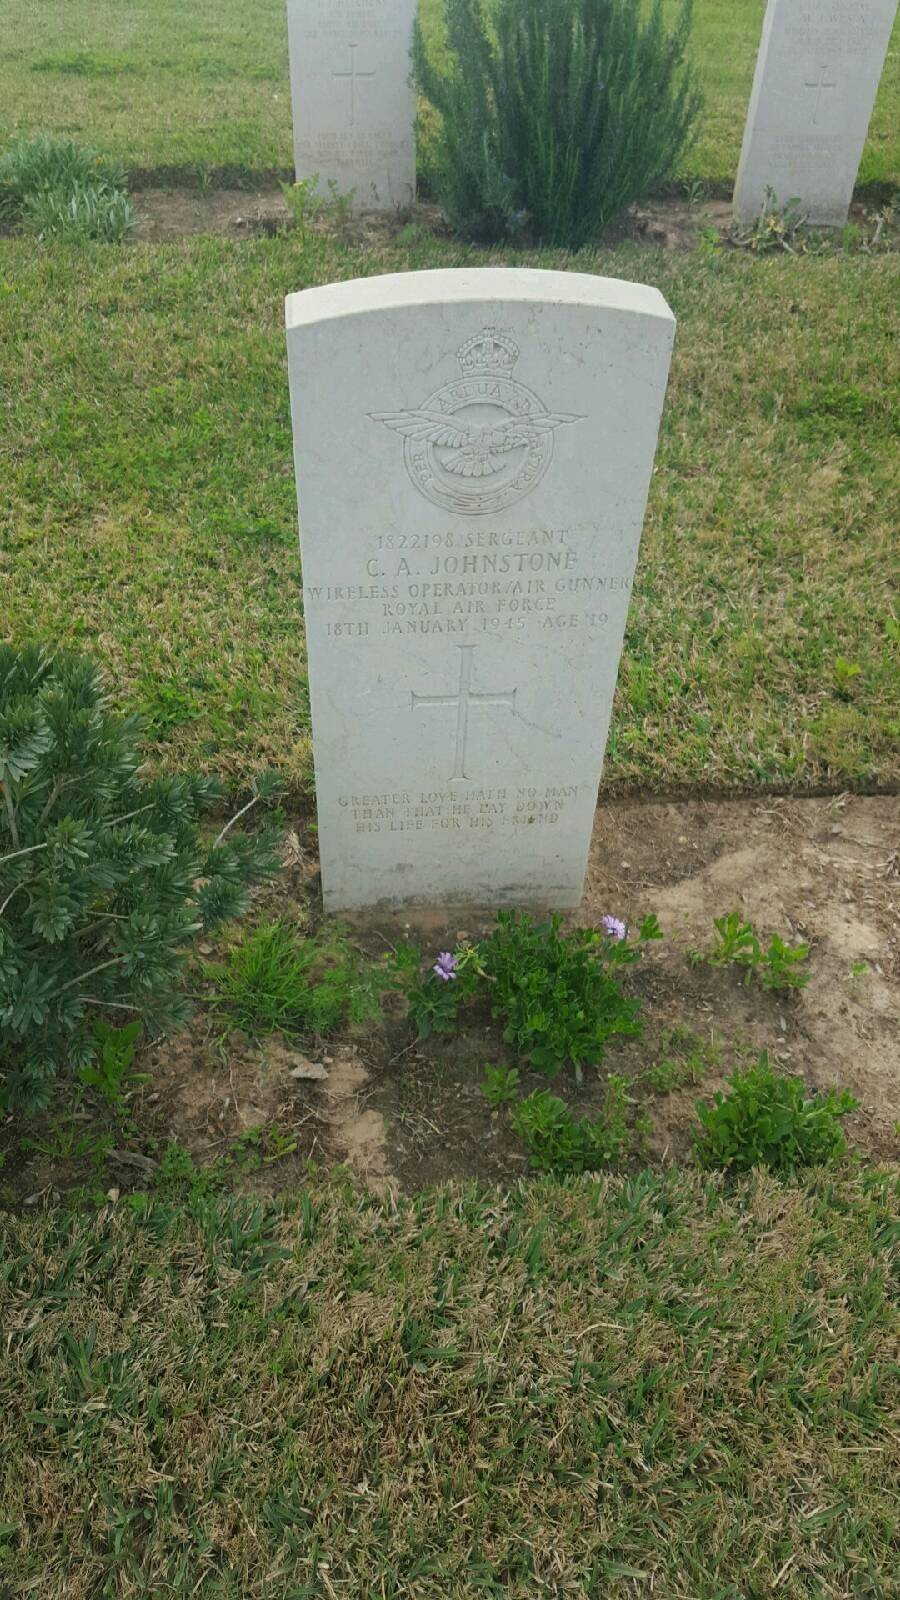military: (282, 269, 675, 904)
